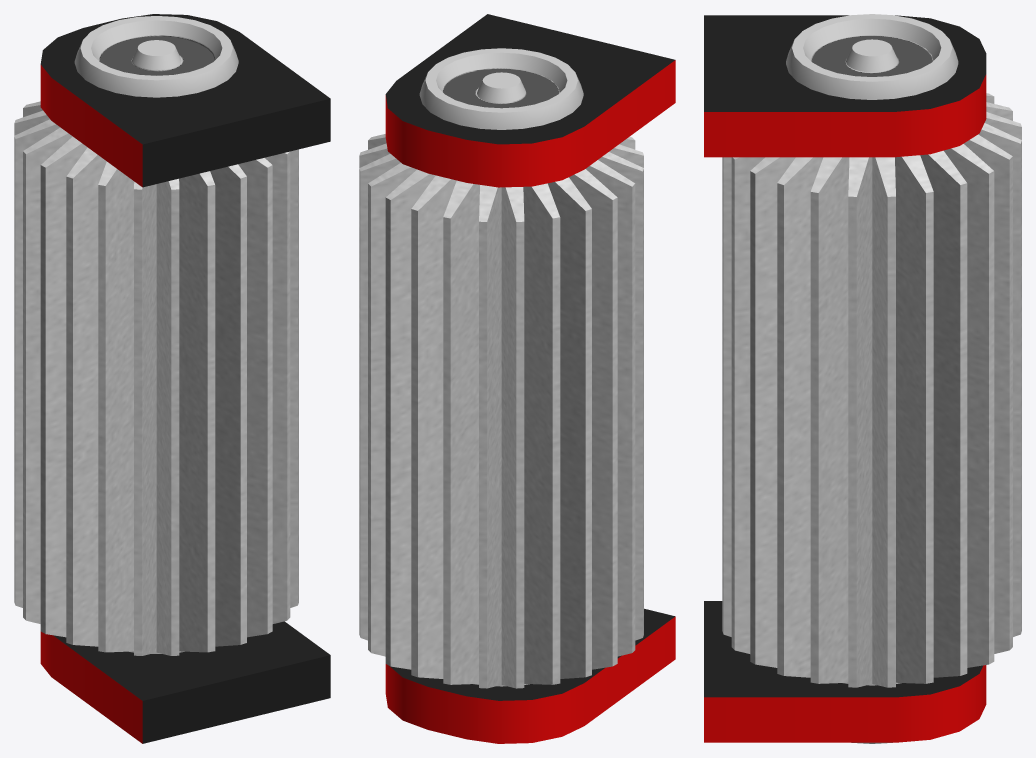
The model's file is reactor.fbx.
3 views of the same model, side by side, from view 1: azimuth 30°, elevation 25°; view 2: azimuth 150°, elevation 25°; view 3: azimuth 270°, elevation 25° (orthographic). The views are drawn at different scales.
Visible parts, largest first — view 1: reactor, reactor-fixer; view 2: reactor, reactor-fixer; view 3: reactor, reactor-fixer.
Part boxes in pixels (x1=…): reactor: x1=14, y1=16, x2=298, y2=655; reactor-fixer: x1=40, y1=14, x2=330, y2=743; reactor: x1=359, y1=48, x2=643, y2=688; reactor-fixer: x1=385, y1=14, x2=675, y2=743; reactor: x1=722, y1=14, x2=1021, y2=743; reactor-fixer: x1=704, y1=15, x2=986, y2=742.
Size of the model in its own units: 0.1521 by 0.371 by 0.1614.
1 material, 1 textured.
